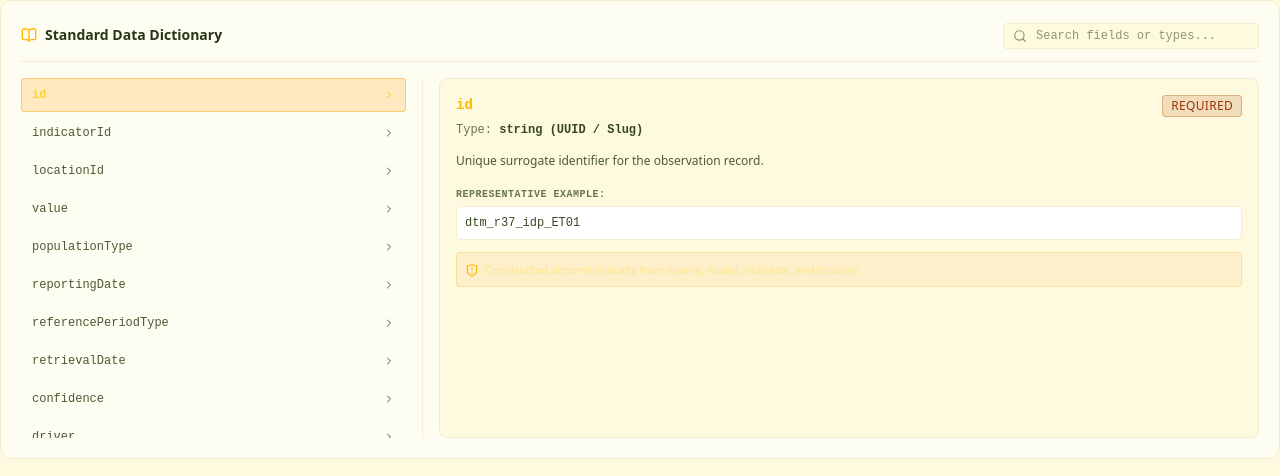
Test: Data Dictionary & Citation Guidance Components › renders DataDictionaryDrawer with searchable field documentation
Expected: the heading "Standard Data Dictionary" is shown, [45, 25, 222, 45]
# Search filter inside data dictionary
Type "retrievalDate" into the field with placeholder "Search fields or types...". click: point(1131, 36)
box: [1003, 23, 1259, 49]
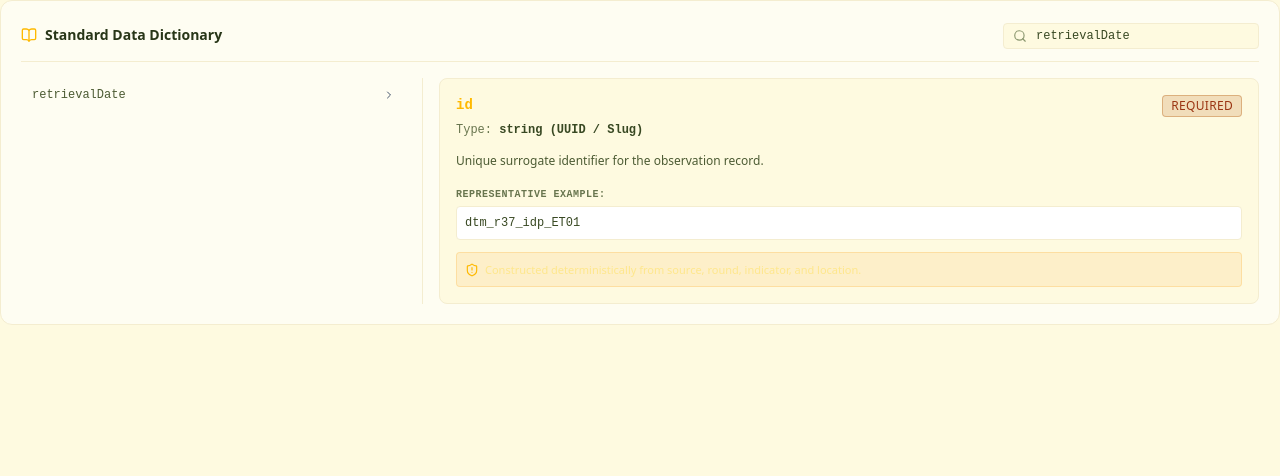
Expected: the text "retrievalDate" is shown, [32, 87, 126, 103]
Expected: the option "populationType" is gone
